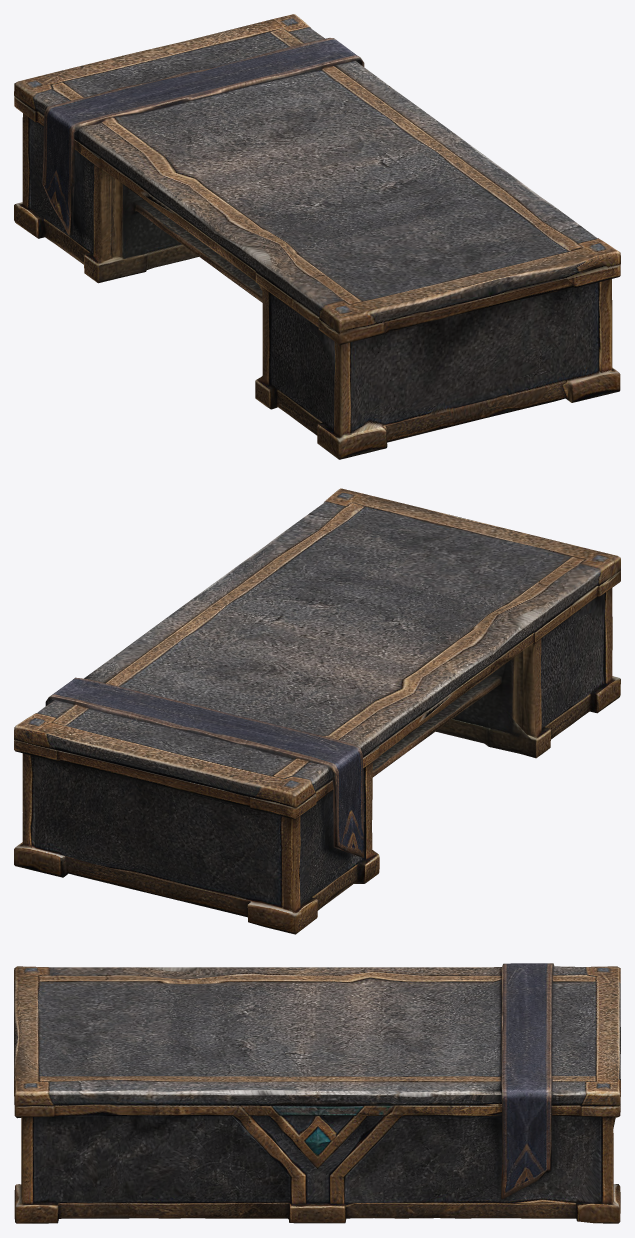
The model's file is main-counter.glb.
The picture shows the model from 3 angles, top to bottom: view 1: azimuth 30°, elevation 25°; view 2: azimuth 150°, elevation 25°; view 3: azimuth 270°, elevation 25°; orthographic projection. The views are drawn at different scales.
Parts seen in each view (by area): view 1: tripo_node_a259268f-9483-4dc4-9a76-5616f520da15; view 2: tripo_node_a259268f-9483-4dc4-9a76-5616f520da15; view 3: tripo_node_a259268f-9483-4dc4-9a76-5616f520da15.
Part boxes in pixels (x1,y1,x2,y2): tripo_node_a259268f-9483-4dc4-9a76-5616f520da15: (14,14,620,459); tripo_node_a259268f-9483-4dc4-9a76-5616f520da15: (14,488,620,934); tripo_node_a259268f-9483-4dc4-9a76-5616f520da15: (14,963,620,1223).
Bounding box in the file's own units: 0.528 × 0.2453 × 0.9999.
1 material, 1 textured.
